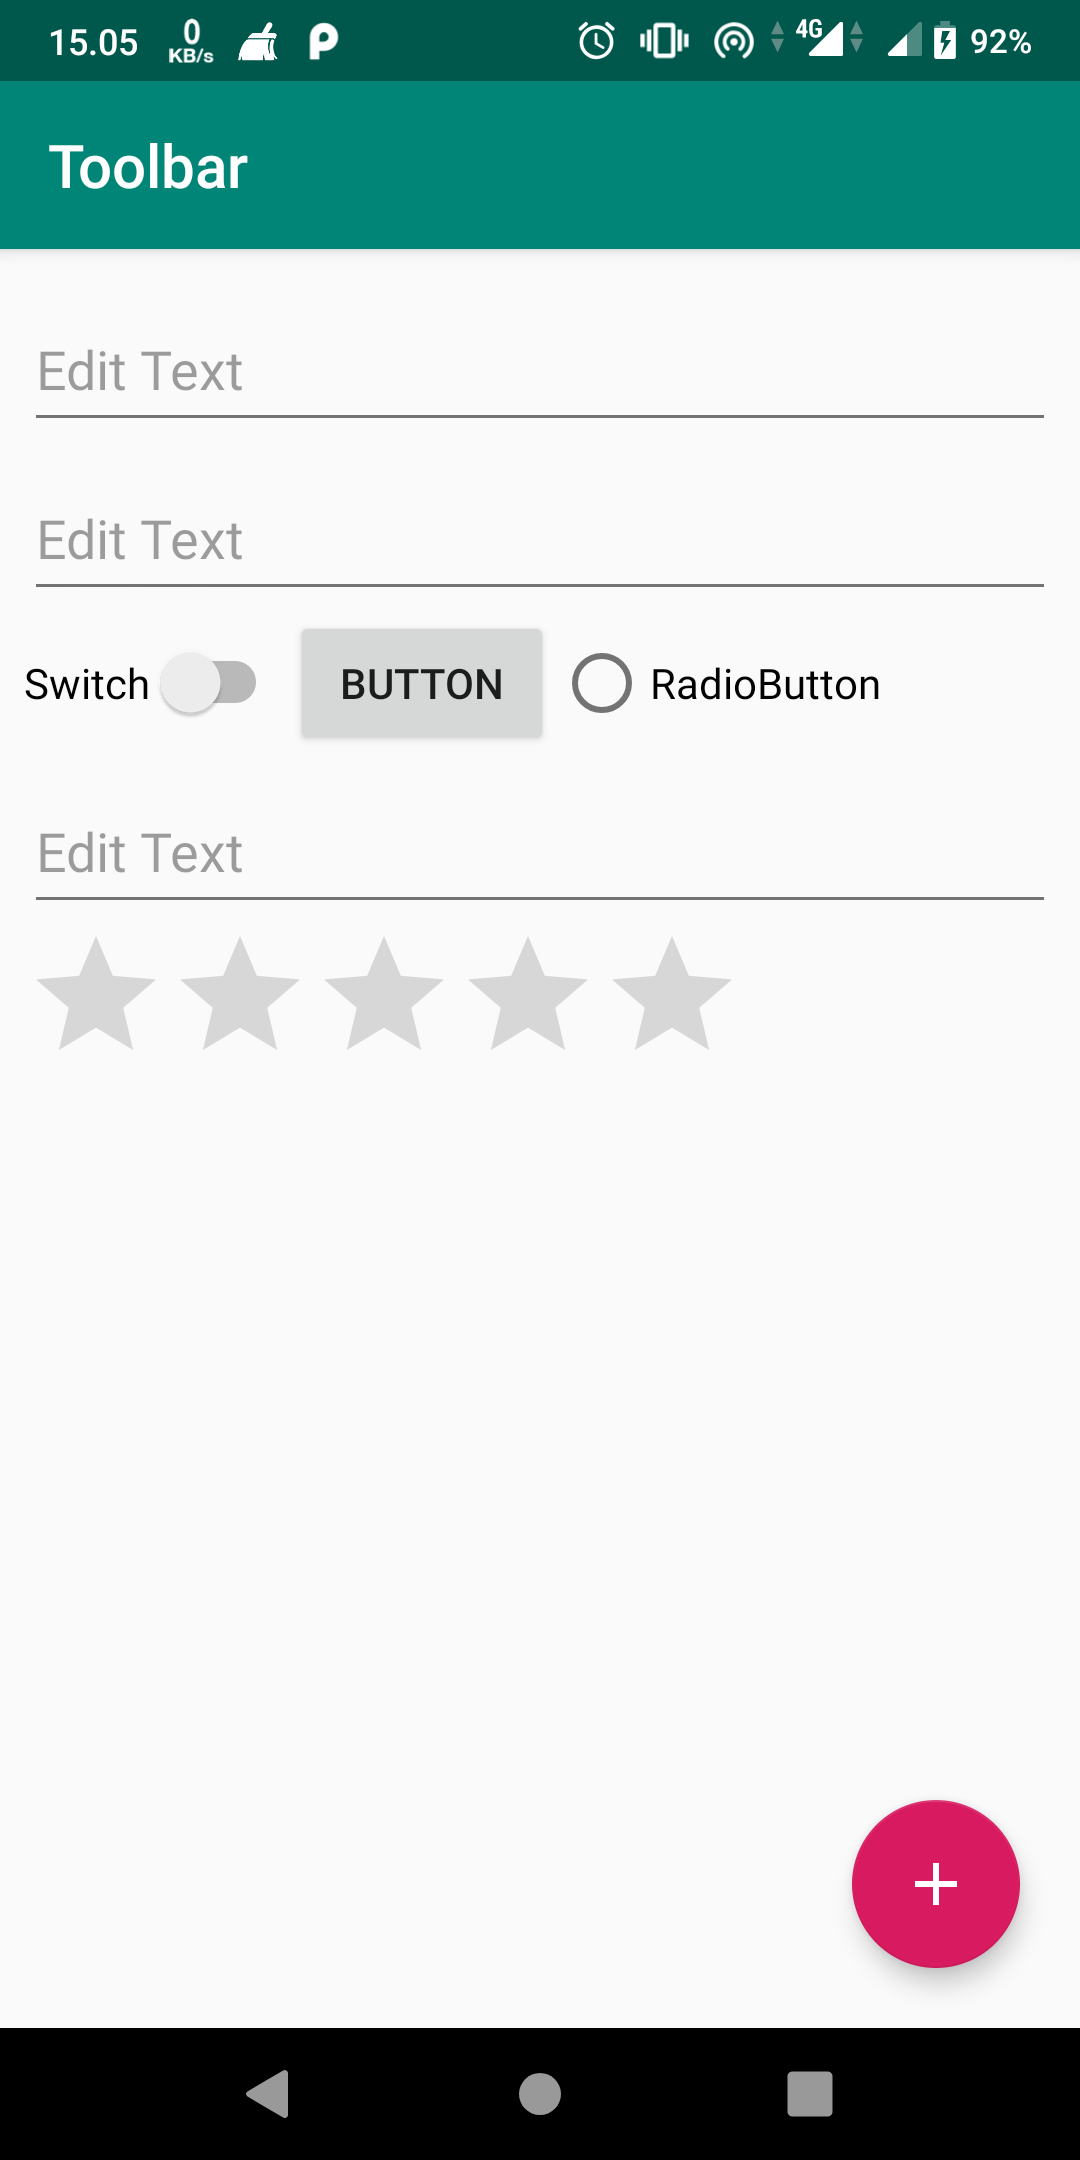button: (291, 623, 555, 751)
editText: (23, 499, 1059, 609), (23, 342, 1055, 444), (30, 816, 1062, 915)
floatingButton: (846, 1796, 1030, 1970)
radioButton: (565, 643, 889, 725)
ratingBar: (33, 931, 736, 1057)
switch: (14, 635, 262, 725)
toolbar: (1, 80, 1080, 242)
